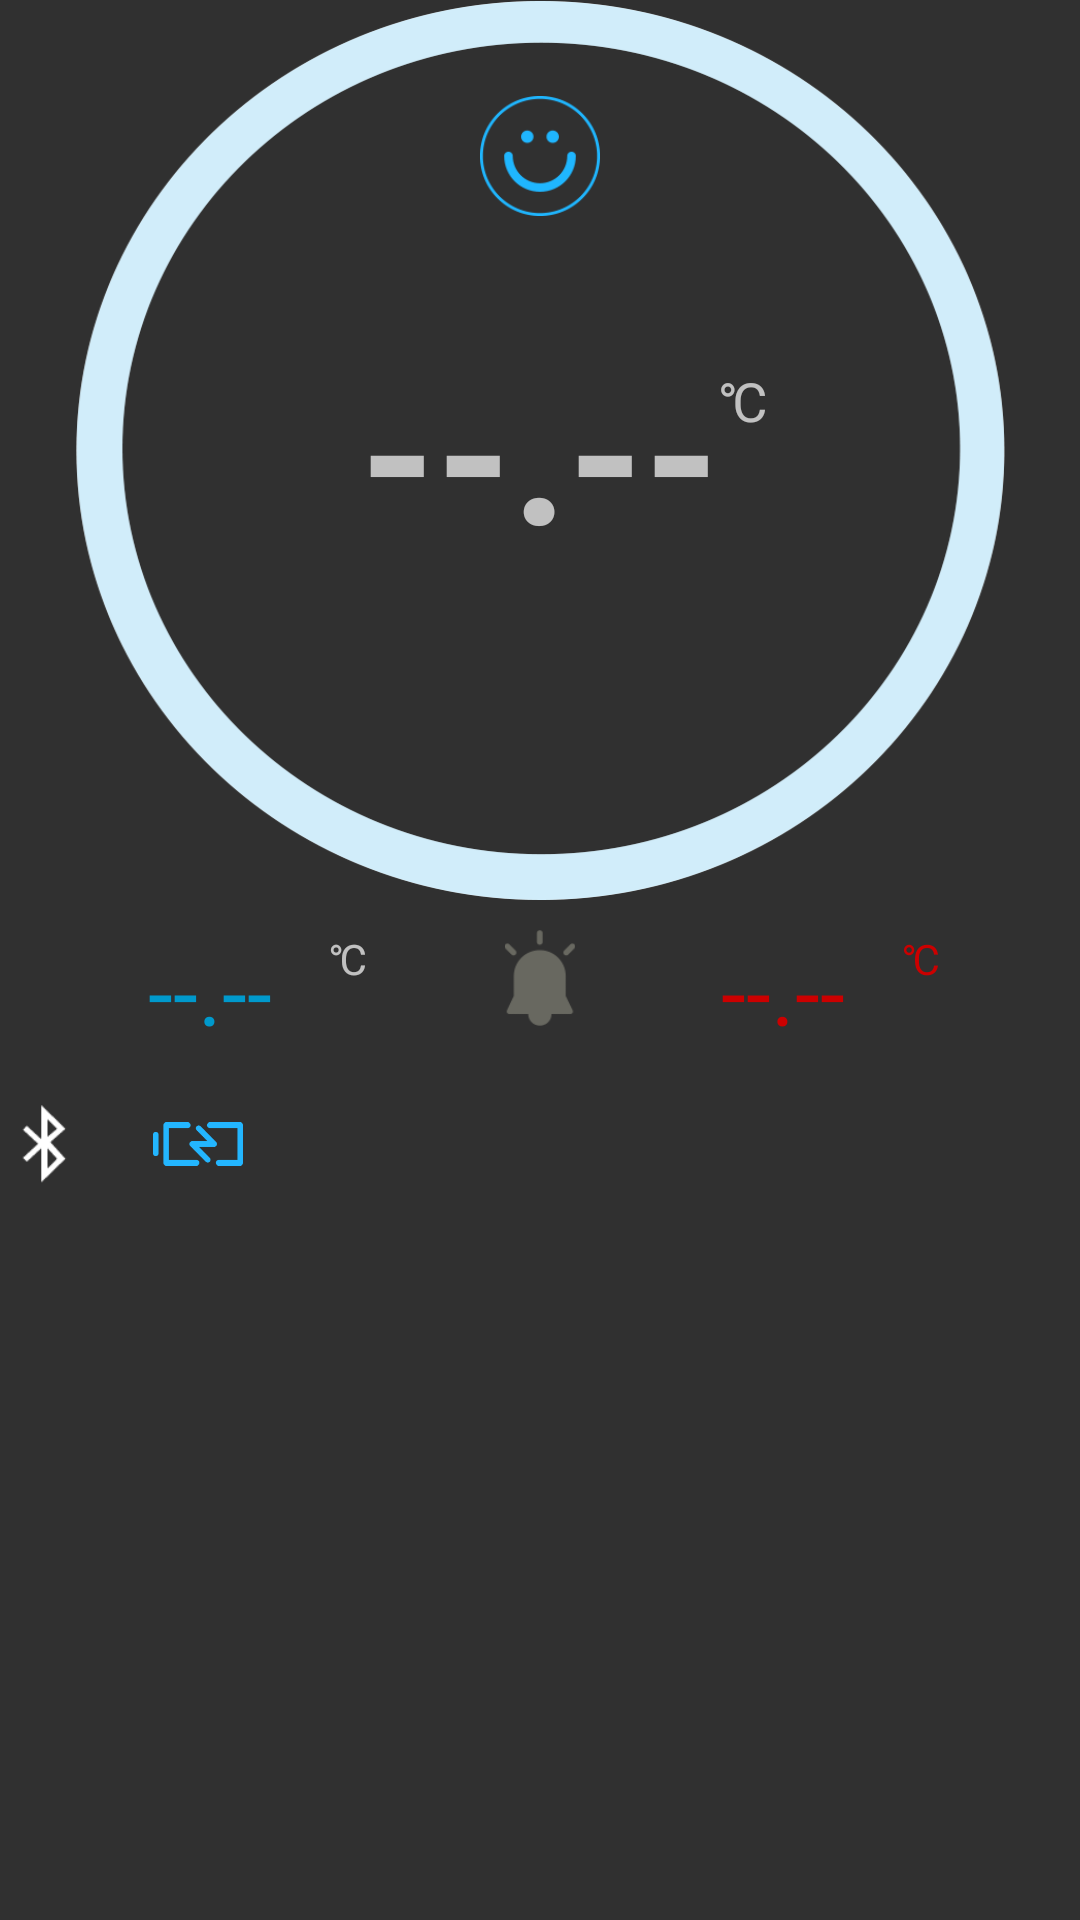

Screen size 1080×1920. Icon name, then its center in pixels as point (x, y):
pic alarm: point (540, 978)
pic battery: point (198, 1144)
pic smile: point (540, 156)
